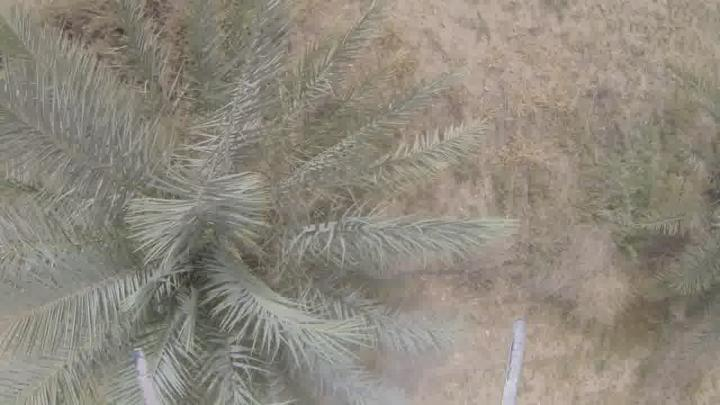Date-Palm-Crown: (46, 72, 380, 388)
